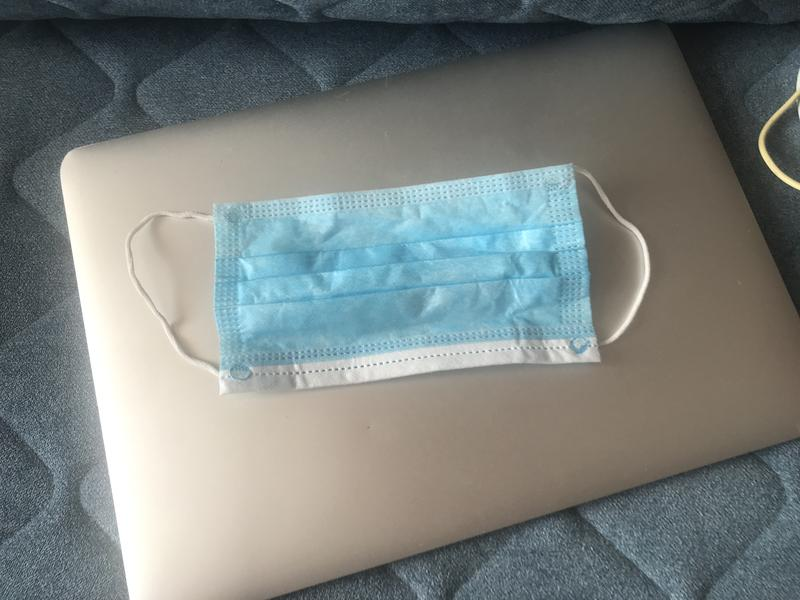medical_mask: (127, 163, 651, 395)
